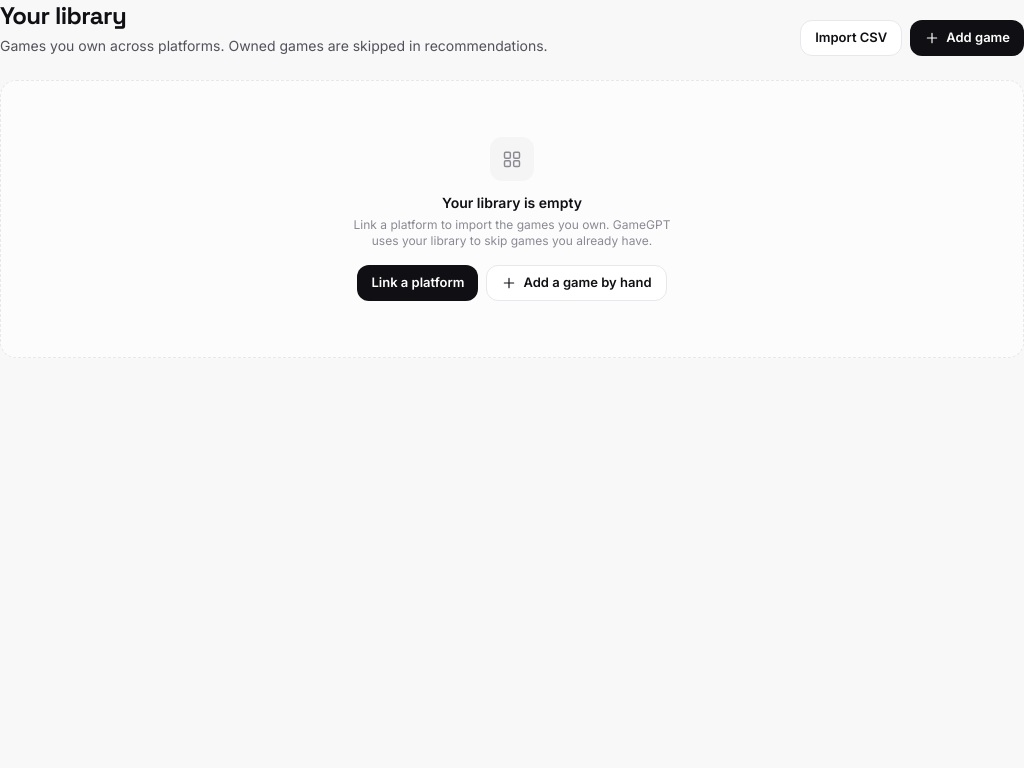
Test: opens the CSV import from the header (TM11-55)
Click the button "Import CSV": (851, 38) x1=800 y1=20 x2=902 y2=56
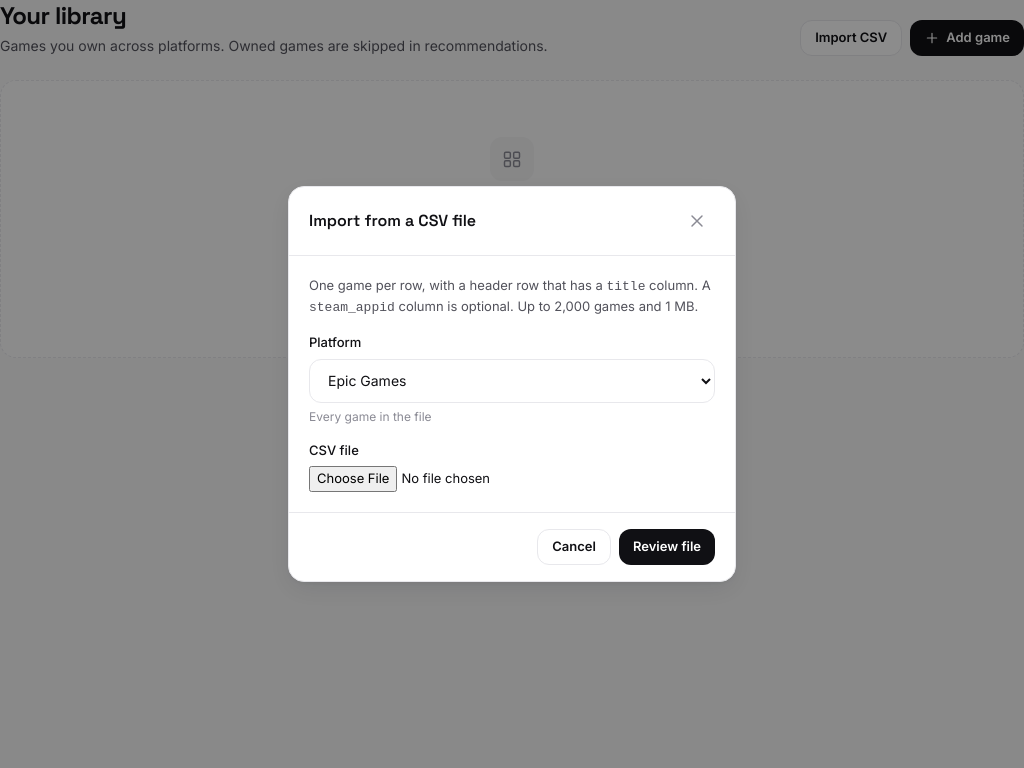
Check: the dialog "Import from a CSV file" is shown, box x1=288 y1=186 x2=736 y2=582
